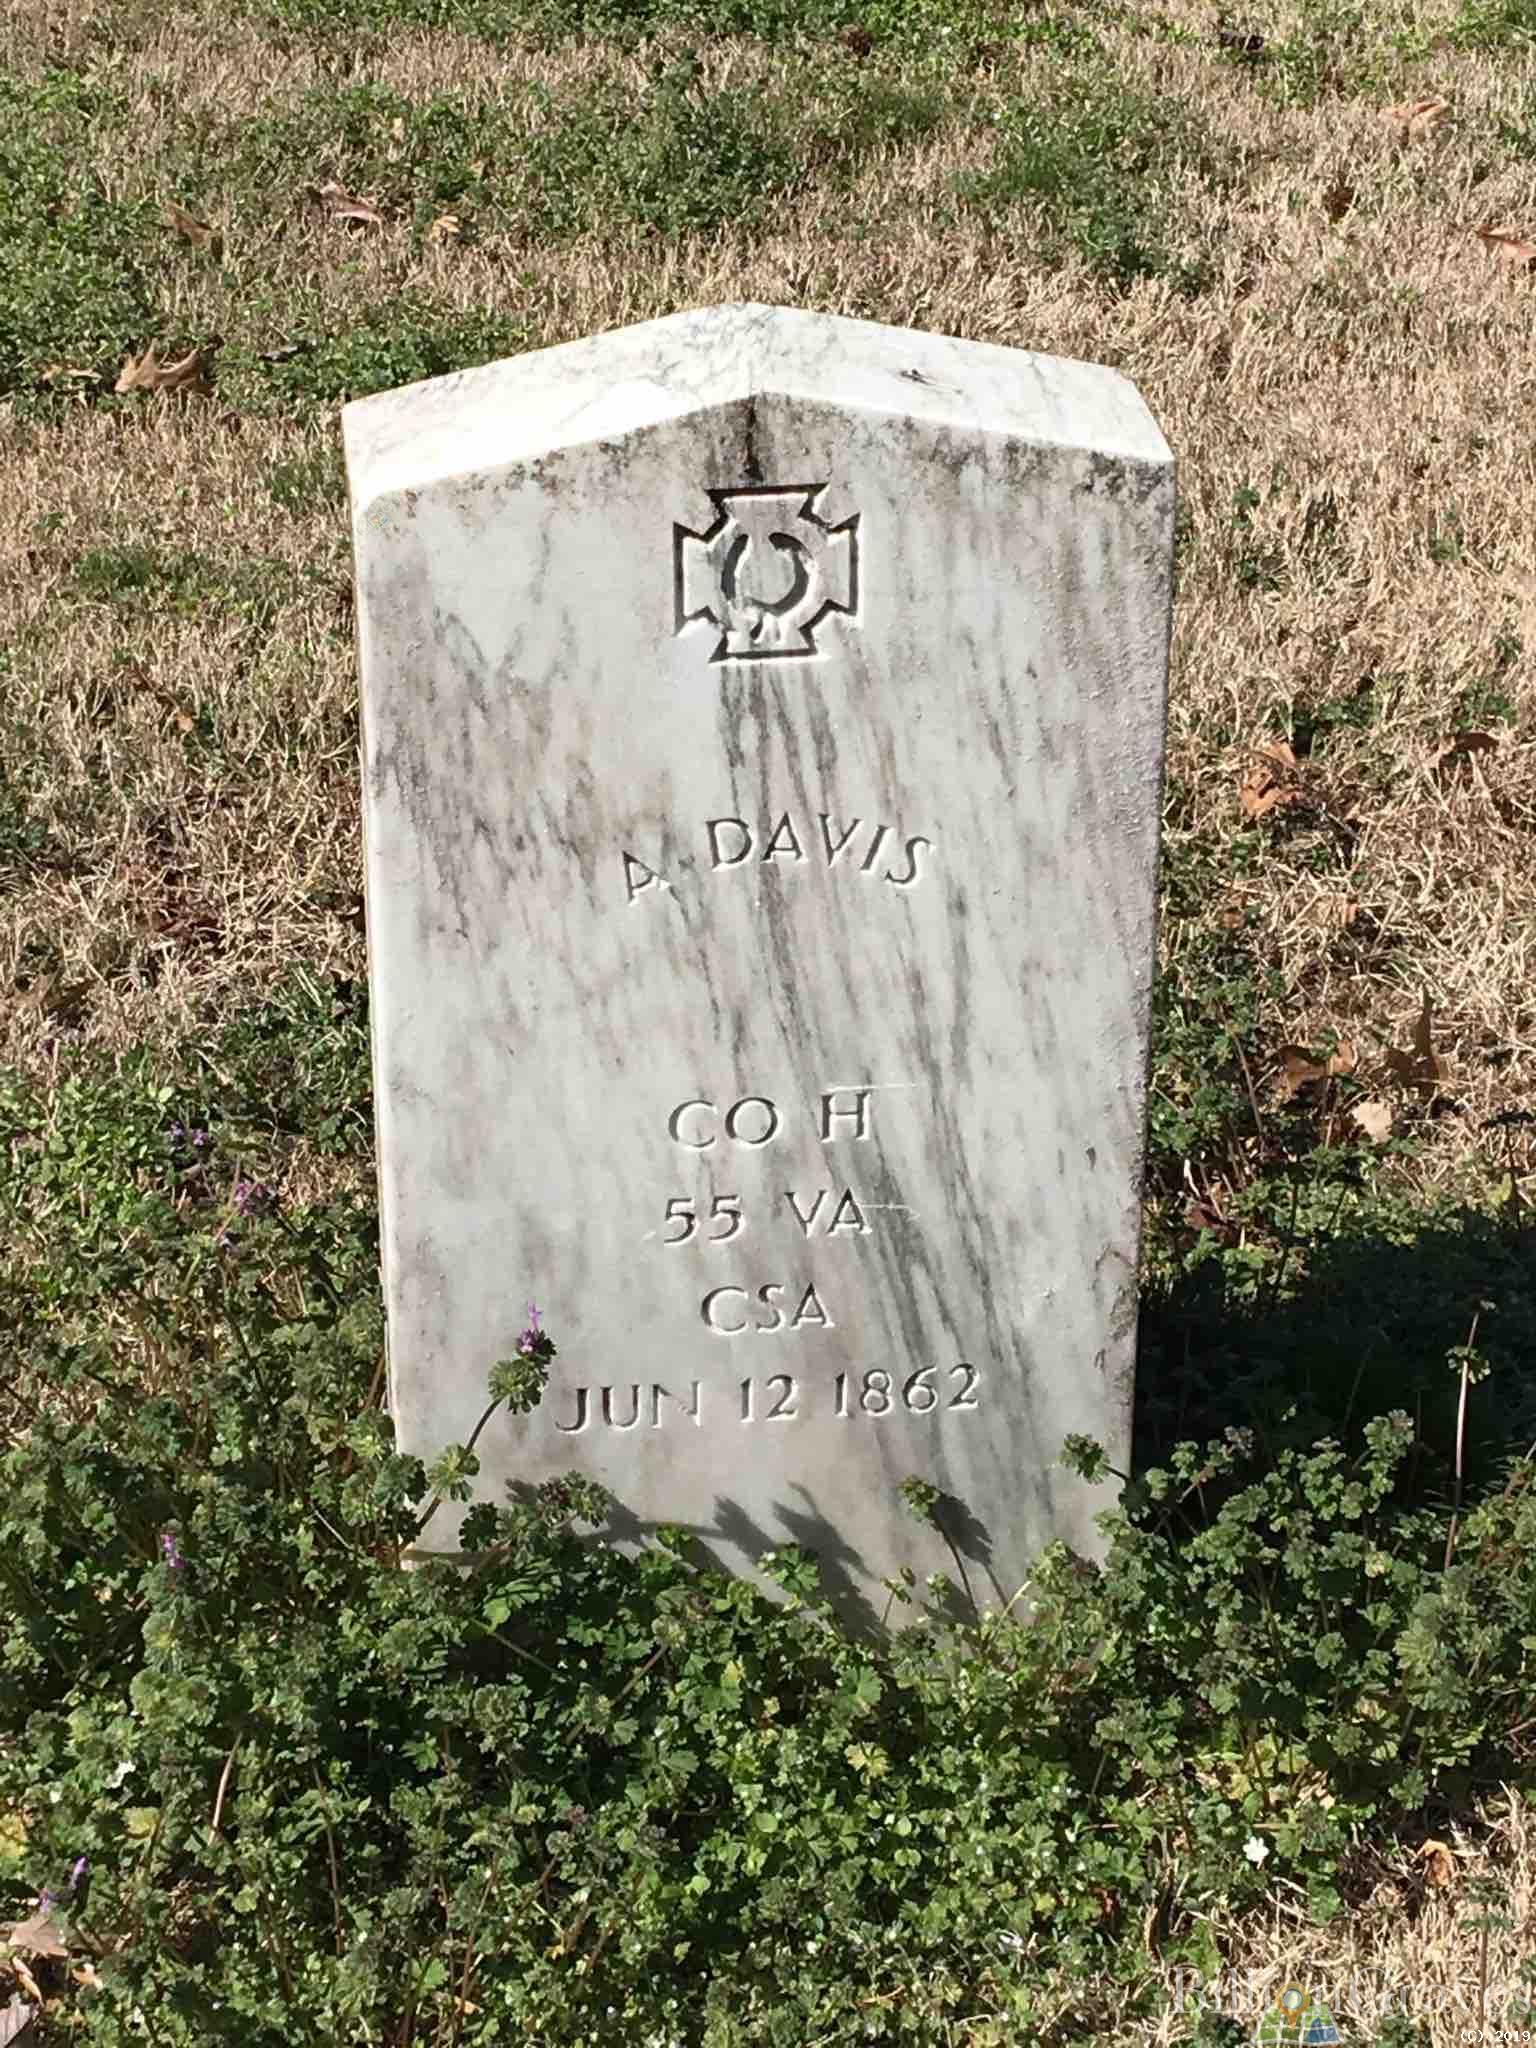military: (342, 295, 1178, 1632)
